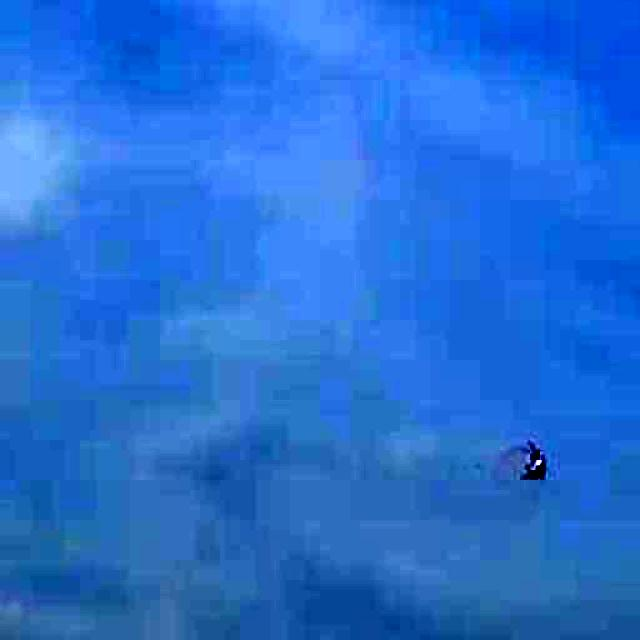drone: (496, 430, 570, 492)
